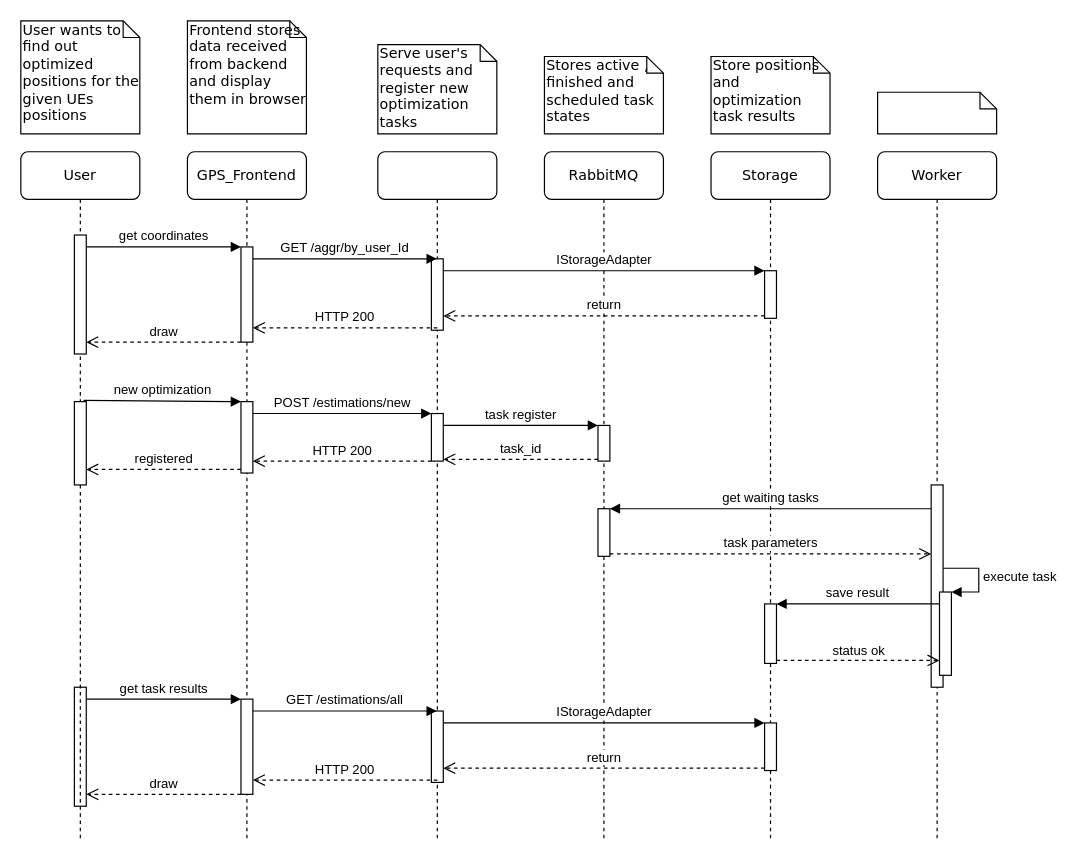
The diagram is 1078 pixels wide and 863 high, and some of its shapes have lost their labels. The centre of each missing label's shape, as x and y in pixels:
GPS_Tracker: point (437, 496)
Optimization task executor: point (936, 112)
